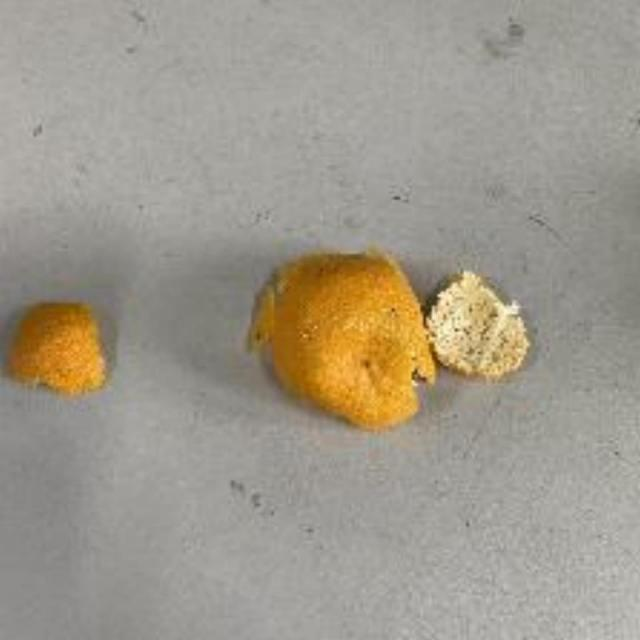orange peel: (254, 248, 434, 440), (428, 268, 533, 380), (12, 292, 102, 396)
